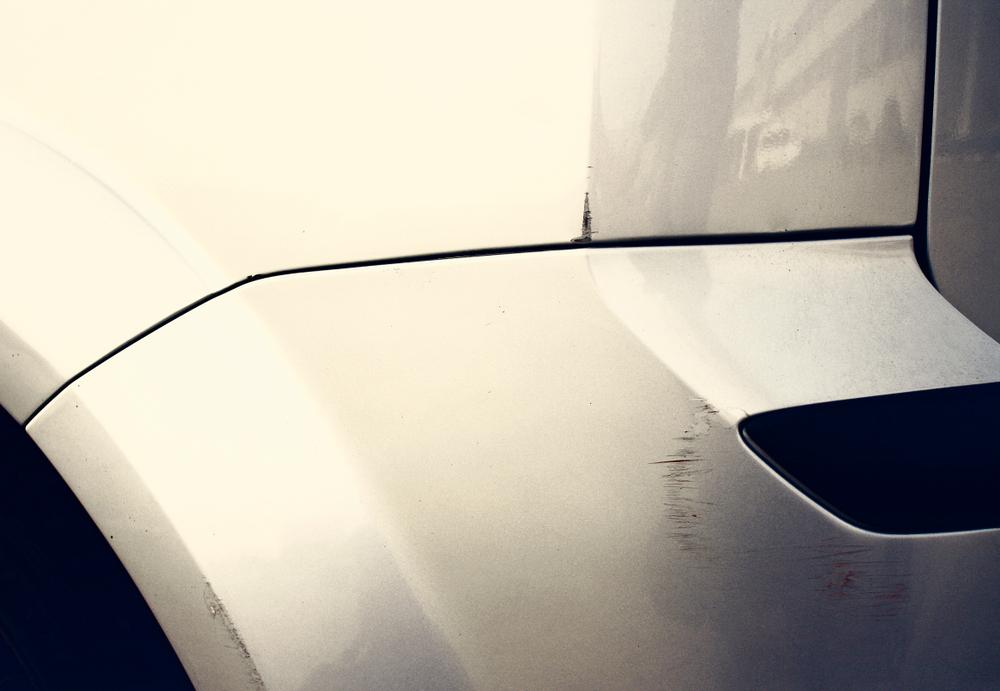scratch: (658, 399, 907, 622), (198, 577, 270, 691), (567, 189, 597, 245)
